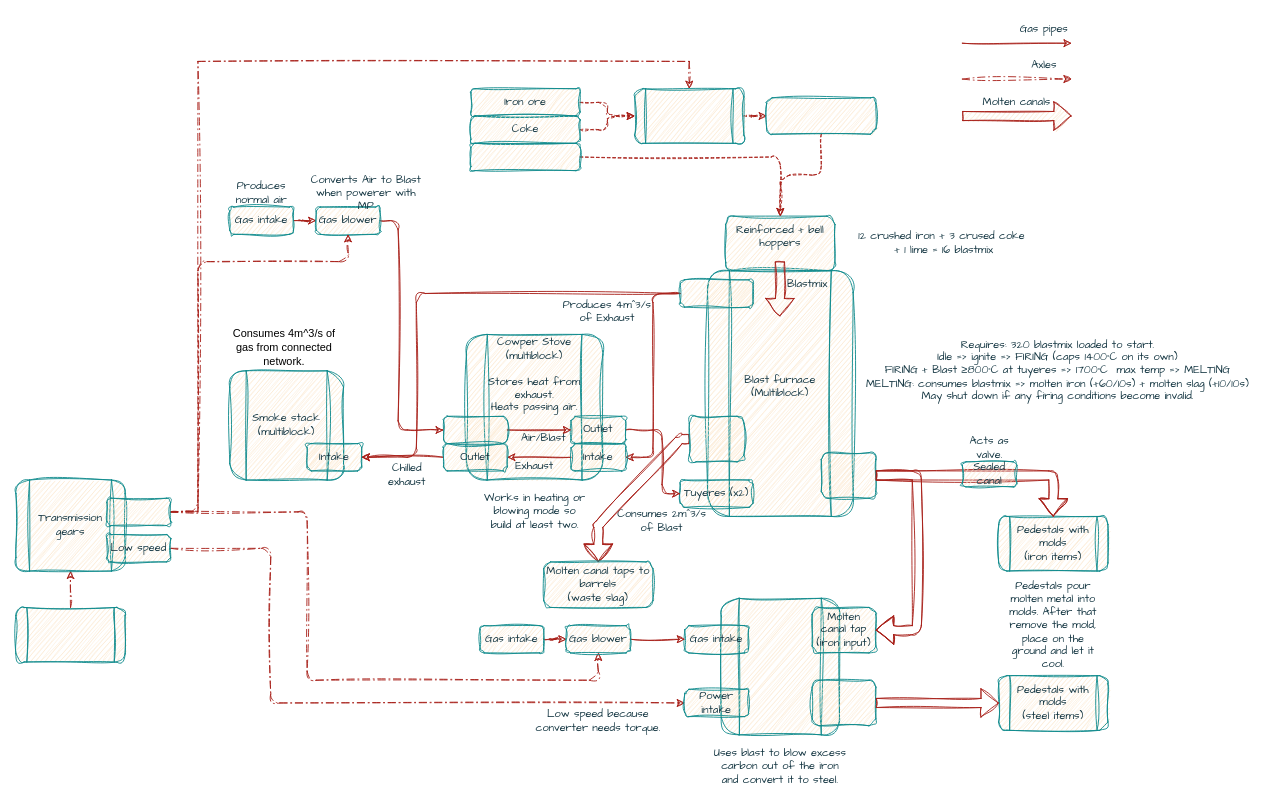
Image size: 1269x802. Some labels were removed from this diagram. Here are the shapes that lost their labels. From the top down, the centre of each, then its label:
(689,115): Pulverizer (vanilla)
(821,115): Crushed iron and coke
(525,156): Lime
(716,293): Exhaust outlets (x2)
(475,429): Passthrough
(716,438): Molten metal tap (slag)
(848,475): Molten metal tap (iron)
(138,511): High speed
(70,634): MP Source (Waterwheel or windmill)
(779,666): Bessemer converter (multiblock)
(843,702): Molten canal start (steel input)
